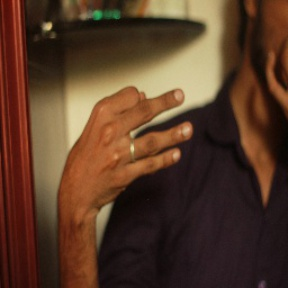K: (69, 86, 193, 199)
